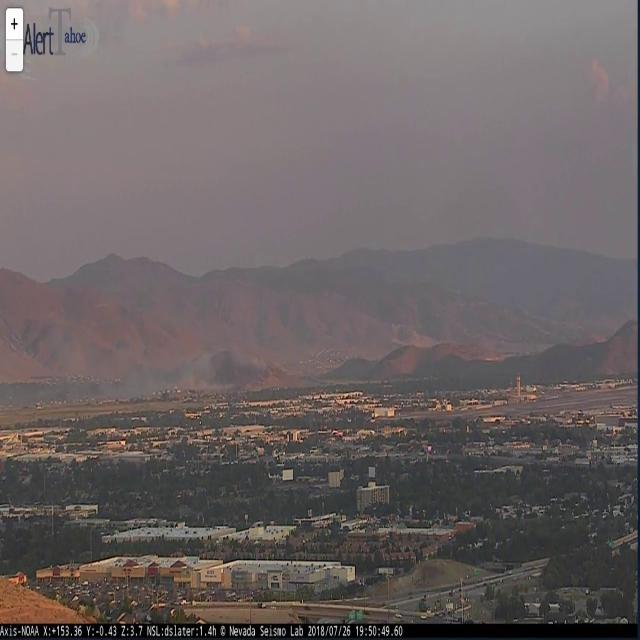smoke: (55, 327, 274, 388)
